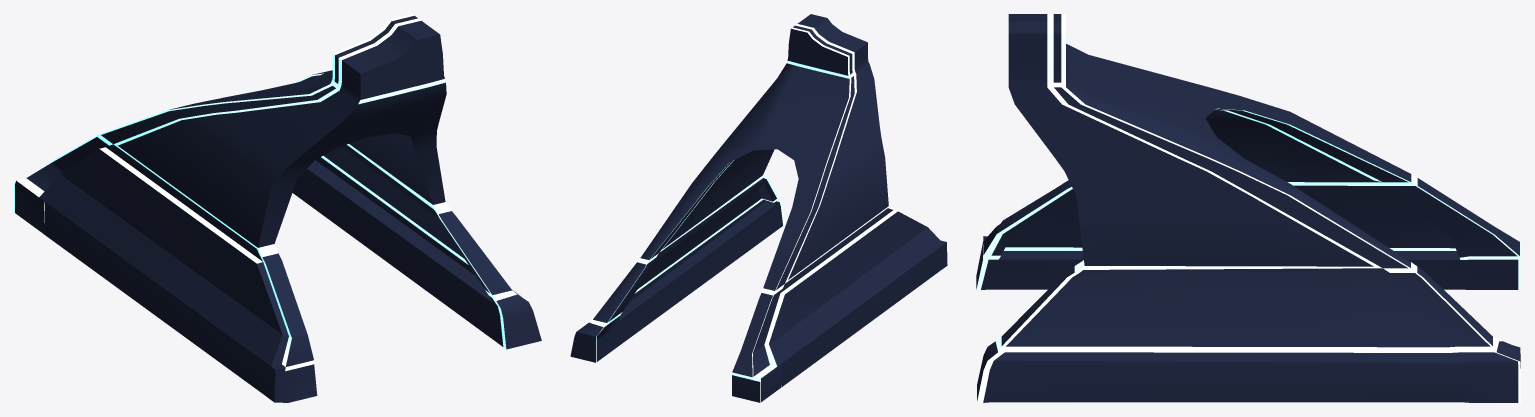
Rendered from Tower_2Ln_.fbx.
The picture shows the model from 3 angles, left to right: view 1: azimuth 30°, elevation 25°; view 2: azimuth 150°, elevation 25°; view 3: azimuth 270°, elevation 25°; orthographic projection. The views are drawn at different scales.
Visible parts, largest first — view 1: Tower_2Ln_; view 2: Tower_2Ln_; view 3: Tower_2Ln_.
Part boxes in pixels (box(x1,y1,x2,y2)): Tower_2Ln_: box(14, 14, 541, 402); Tower_2Ln_: box(570, 14, 947, 402); Tower_2Ln_: box(976, 14, 1520, 402).
Bounding box in the file's own units: 1439 × 1645 × 2487.
